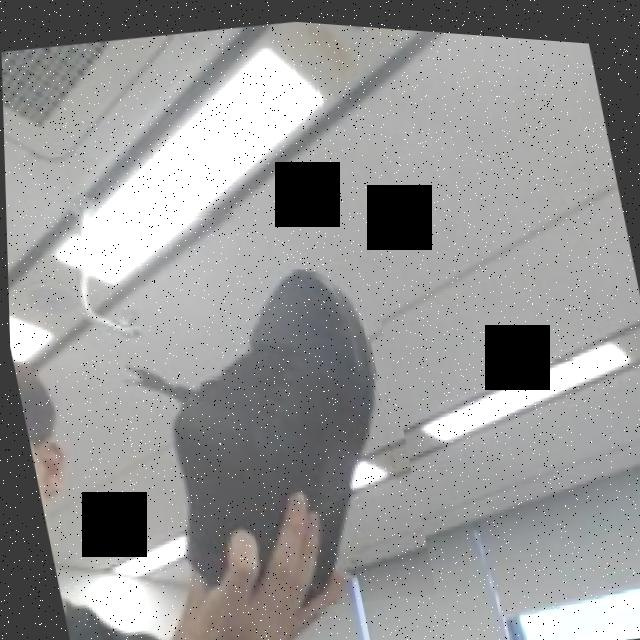shoe: (113, 178, 434, 629)
